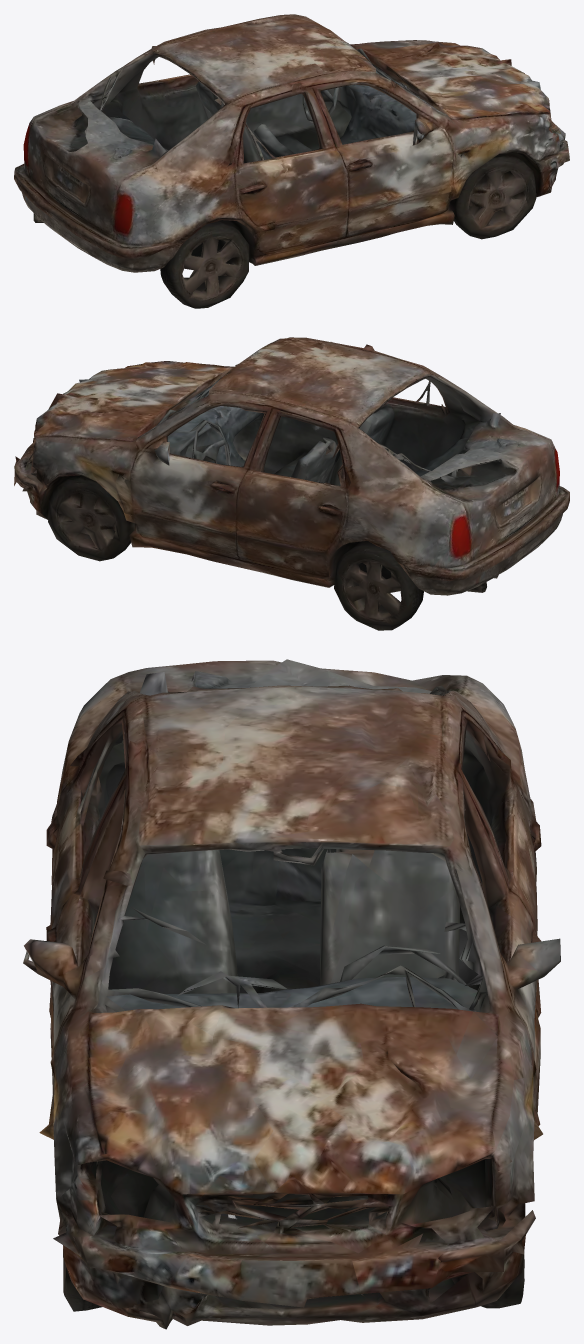
The model's file is car_wreck.glb.
The picture shows the model from 3 angles, top to bottom: view 1: azimuth 30°, elevation 25°; view 2: azimuth 150°, elevation 25°; view 3: azimuth 270°, elevation 25°; orthographic projection. The views are drawn at different scales.
Parts seen in each view (by area): view 1: tripo_node_44e223c5-bd8d-42e9-8df1-d666103681da; view 2: tripo_node_44e223c5-bd8d-42e9-8df1-d666103681da; view 3: tripo_node_44e223c5-bd8d-42e9-8df1-d666103681da.
Boxes of the visible parts, bbox=[...] form: tripo_node_44e223c5-bd8d-42e9-8df1-d666103681da: bbox=[14, 14, 569, 308]; tripo_node_44e223c5-bd8d-42e9-8df1-d666103681da: bbox=[14, 337, 569, 630]; tripo_node_44e223c5-bd8d-42e9-8df1-d666103681da: bbox=[23, 659, 560, 1329].
Bounding box in the file's own units: 1 × 0.3798 × 0.4828.
Materials: 1 (1 with a texture image).
